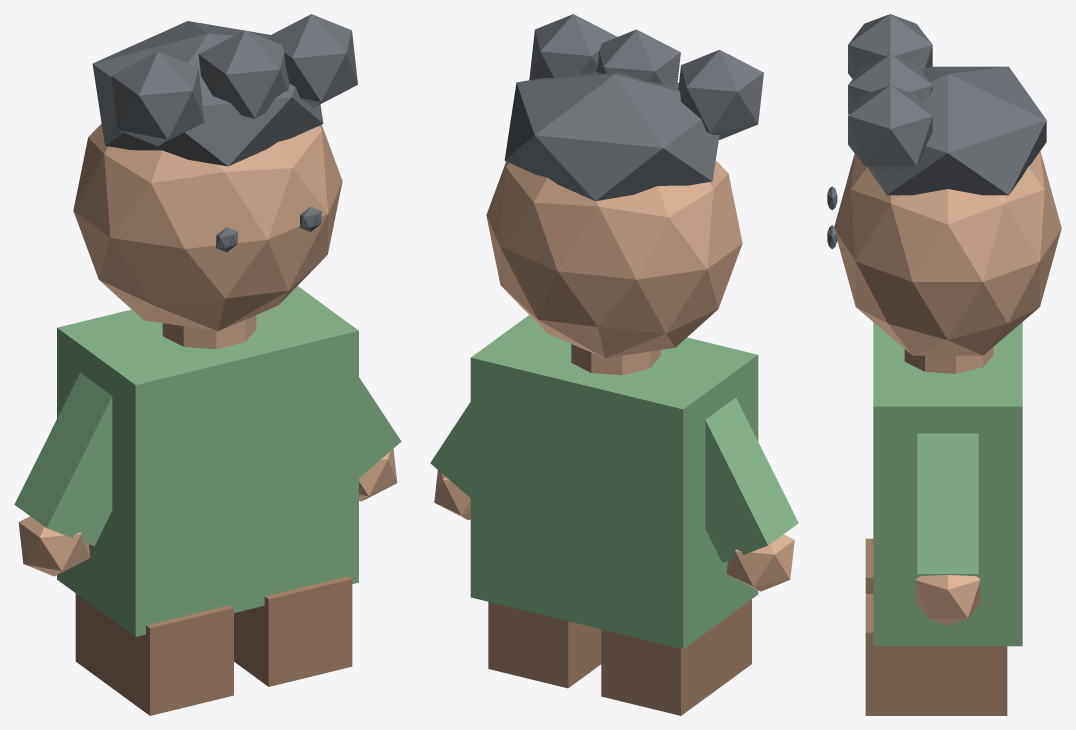
Rendered from guest_06.glb.
3 renders of one model, left to right at view 1: azimuth 30°, elevation 25°; view 2: azimuth 150°, elevation 25°; view 3: azimuth 270°, elevation 25°, orthographic. The views are drawn at different scales.
Visible parts, largest first — view 1: short overalls.005, head.005, boot.010, curly hair, arm.010, boot.011, small curls, small curls.001, small curls.002, hand.010, arm.011, round neck.005 (+1 smaller); view 2: short overalls.005, head.005, curly hair, boot.010, arm.010, boot.011, small curls, small curls.002, small curls.001, hand.010, arm.011, round neck.005 (+1 smaller); view 3: short overalls.005, head.005, curly hair, boot.011, arm.011, small curls.002, small curls, hand.011, small curls.001, round neck.005, boot.010.
Part boxes in pixels (box(x1,y1,x2,y2)): short overalls.005: box(57, 286, 358, 636); head.005: box(73, 124, 342, 331); boot.010: box(75, 593, 233, 715); curly hair: box(92, 21, 323, 166); arm.010: box(14, 372, 112, 545); boot.011: box(234, 576, 352, 686); small curls: box(111, 51, 204, 146); small curls.001: box(198, 30, 289, 119); small curls.002: box(265, 14, 357, 107); hand.010: box(18, 516, 90, 576); arm.011: box(359, 377, 401, 477); round neck.005: box(162, 315, 256, 349); short overalls.005: box(470, 315, 758, 649); head.005: box(486, 160, 742, 358); curly hair: box(504, 72, 719, 201); boot.010: box(601, 599, 751, 715); arm.010: box(705, 397, 798, 562); boot.011: box(488, 602, 601, 688); small curls: box(678, 49, 763, 139); small curls.002: box(529, 14, 617, 80); small curls.001: box(596, 29, 680, 84); hand.010: box(726, 534, 794, 591); arm.011: box(430, 402, 470, 497); round neck.005: box(571, 344, 660, 375); short overalls.005: box(873, 322, 1022, 646); head.005: box(834, 151, 1061, 355); curly hair: box(868, 66, 1046, 195); boot.011: box(865, 594, 1007, 715); arm.011: box(917, 433, 978, 576); small curls.002: box(848, 85, 932, 174); small curls: box(848, 14, 932, 78); hand.011: box(915, 575, 980, 625); small curls.001: box(848, 54, 932, 114); round neck.005: box(904, 347, 993, 373); boot.010: box(865, 538, 873, 593).
Size of the model in its own units: 1.06 by 1.78 by 0.6126.
